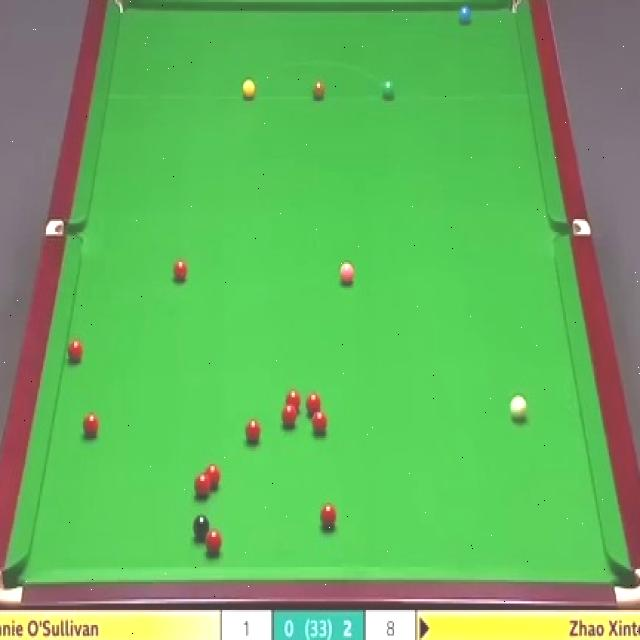black-ball: (192, 516, 209, 540)
blue-ball: (459, 5, 472, 28)
brown-ball: (312, 79, 326, 100)
green-ball: (380, 80, 394, 100)
pink-ball: (339, 264, 355, 288)
red-ball: (312, 408, 329, 439), (195, 474, 213, 502), (320, 502, 337, 530), (67, 340, 84, 367), (204, 528, 222, 553), (84, 410, 100, 438), (244, 417, 260, 442), (306, 392, 322, 416), (205, 464, 221, 488), (282, 406, 299, 428), (285, 389, 301, 411), (172, 262, 188, 281)
white-ball: (508, 394, 528, 428)
yellow-ball: (241, 79, 256, 100)
